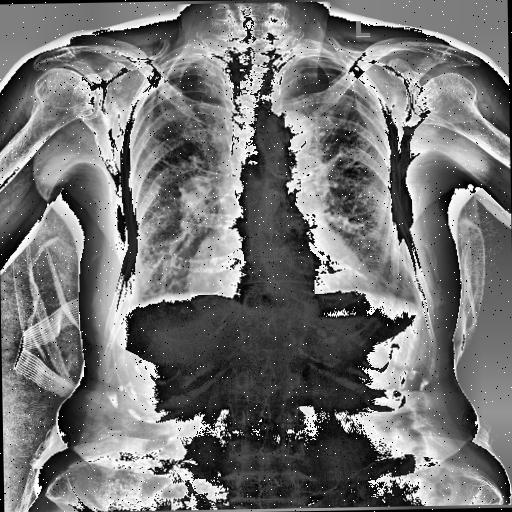0- Aortic enlargement: (262, 110, 322, 168), (256, 109, 314, 158), (266, 109, 314, 154)
10- Pleural effusion: (116, 268, 150, 326)
11- Pleural thickening: (116, 268, 150, 326), (279, 52, 342, 72), (118, 293, 146, 325)
2- Calcification: (288, 138, 309, 152)
3- Cardiomegaly: (184, 234, 373, 297), (186, 252, 380, 312), (187, 248, 381, 301)
5- ILD: (306, 94, 394, 280), (130, 118, 210, 282)
